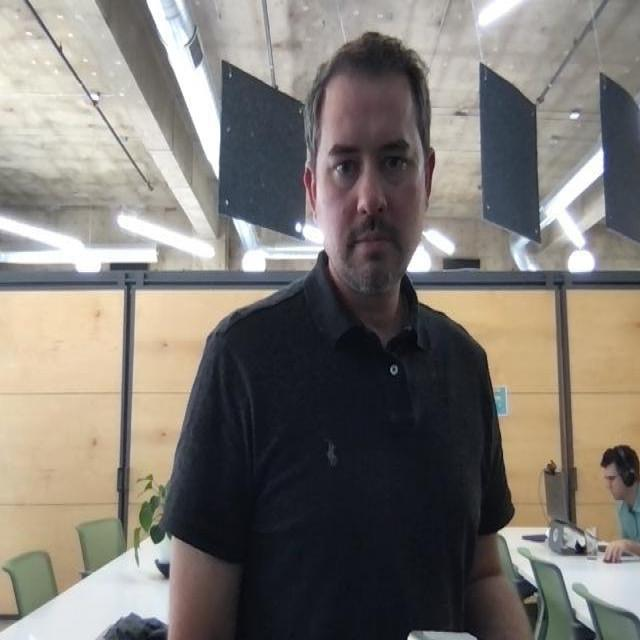face: (308, 28, 433, 316), (597, 448, 640, 503)
